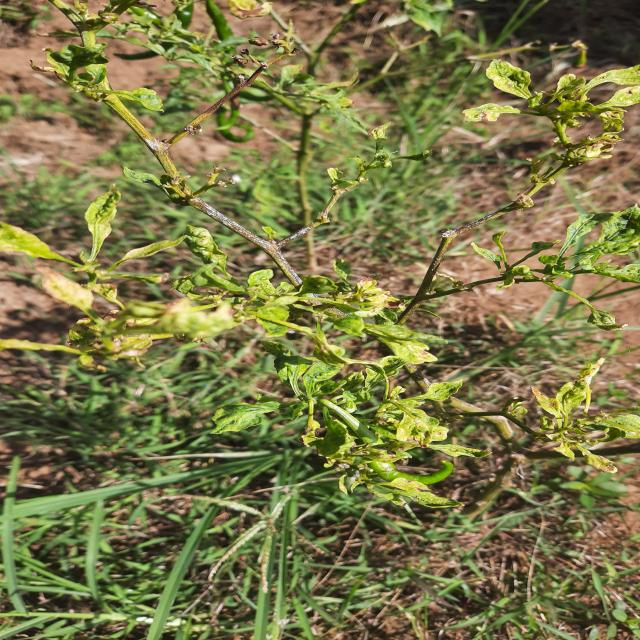virus_kuning: (554, 353, 608, 419), (0, 220, 58, 263)
